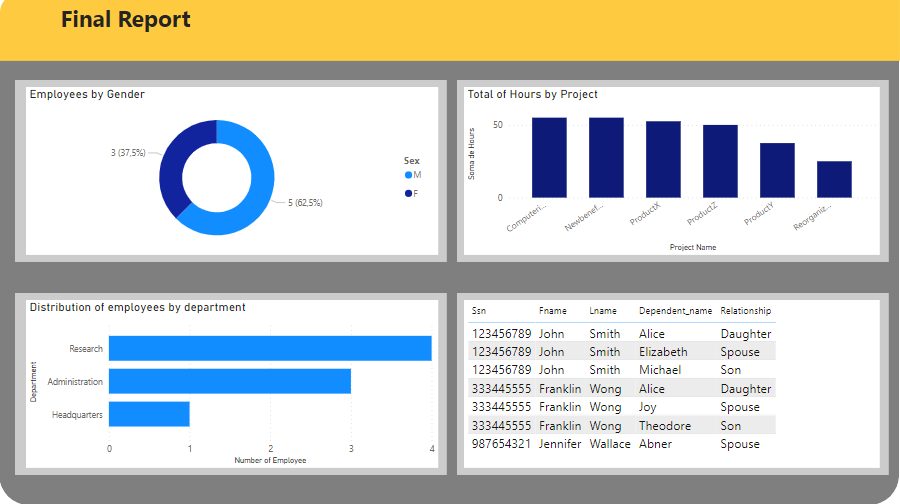

The page's visual inventory and layout, read from the dashboard file:
{"tool":"powerbi","page":{"name":"Página 1","canvas":[1280,720],"ordinal":0},"visuals":[{"type":"shape","box":[9.1,1.5,1270.9,719],"z":0},{"type":"shape","box":[9.5,0,1270.5,93.1],"z":1000},{"type":"textbox","box":[89.7,6.1,299.5,80.6],"z":2000},{"type":"shape","box":[30.4,120.1,609.6,256.9],"z":3000},{"type":"shape","box":[655.2,120.1,609.6,256.9],"z":4000},{"type":"shape","box":[30.4,421.1,609.6,256.9],"z":5000},{"type":"shape","box":[655.2,421.1,609.6,256.9],"z":6000},{"type":"barChart","title":"Distribution of employees by department","fields":{"Category":["azure_company departament.Dname"],"Y":["CountNonNull(azure_company employee.Ssn)"]},"box":[46.6,430.6,581.6,237.2],"z":7000},{"type":"tableEx","fields":{"Values":["azure_company employee.Ssn","azure_company employee.Fname","azure_company employee.Lname","azure_company dependent.Dependent_name","azure_company dependent.Relationship"]},"box":[664.9,430.6,587.3,237.2],"z":8000},{"type":"columnChart","title":"Total of Hours by Project","fields":{"Category":["azure_company project.Project Name"],"Y":["Sum(azure_company works_on.Hours)"]},"box":[664.9,129.9,587.3,237.2],"z":9000},{"type":"donutChart","title":"Employees by Gender","fields":{"Category":["azure_company employee.Sex"],"Y":["Count(azure_company employee.Ssn)"]},"box":[46.6,129.9,581.6,237.2],"z":10000}]}

Visuals, with their boxes in screenshot pixels (x1, y1, x2, y2), scaled from the page's 1280x720 canvas onto the 900x504 screenshot:
shape: <box>6,1,899,503</box>
shape: <box>7,0,899,65</box>
textbox: <box>63,4,274,61</box>
shape: <box>21,84,450,264</box>
shape: <box>461,84,889,264</box>
shape: <box>21,295,450,475</box>
shape: <box>461,295,889,475</box>
"Distribution of employees by department" barChart: <box>33,301,442,467</box>
tableEx - azure_company employee.Ssn x azure_company employee.Fname: <box>468,301,880,467</box>
"Total of Hours by Project" columnChart: <box>468,91,880,257</box>
"Employees by Gender" donutChart: <box>33,91,442,257</box>
